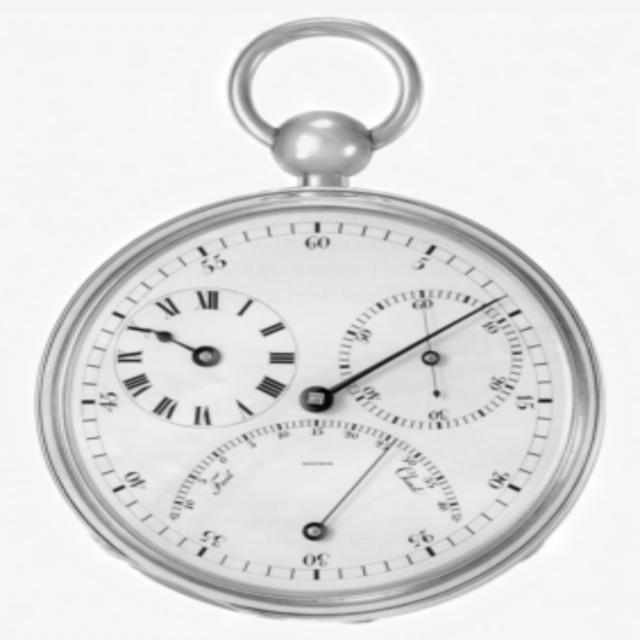number_60: (300, 218, 337, 259)
